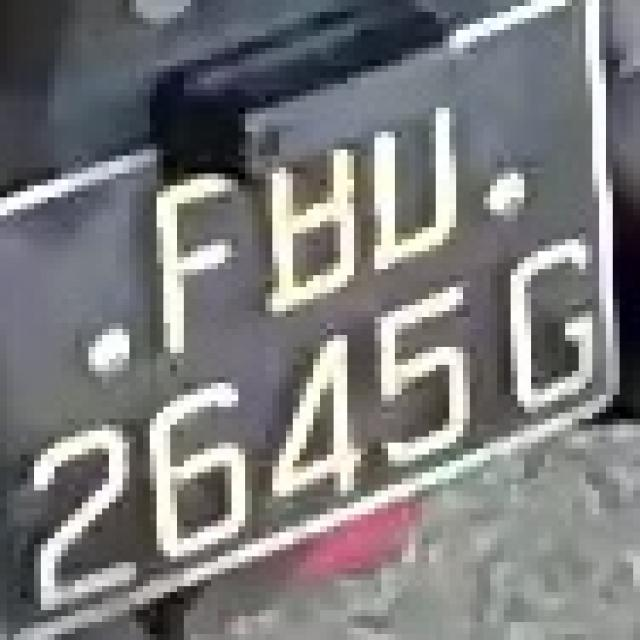2: (14, 419, 143, 610)
4: (232, 323, 374, 508)
5: (354, 281, 490, 467)
6: (129, 365, 259, 568)
B: (245, 132, 375, 311)
D: (354, 84, 470, 281)
F: (136, 155, 245, 353)
G: (483, 239, 613, 425)
